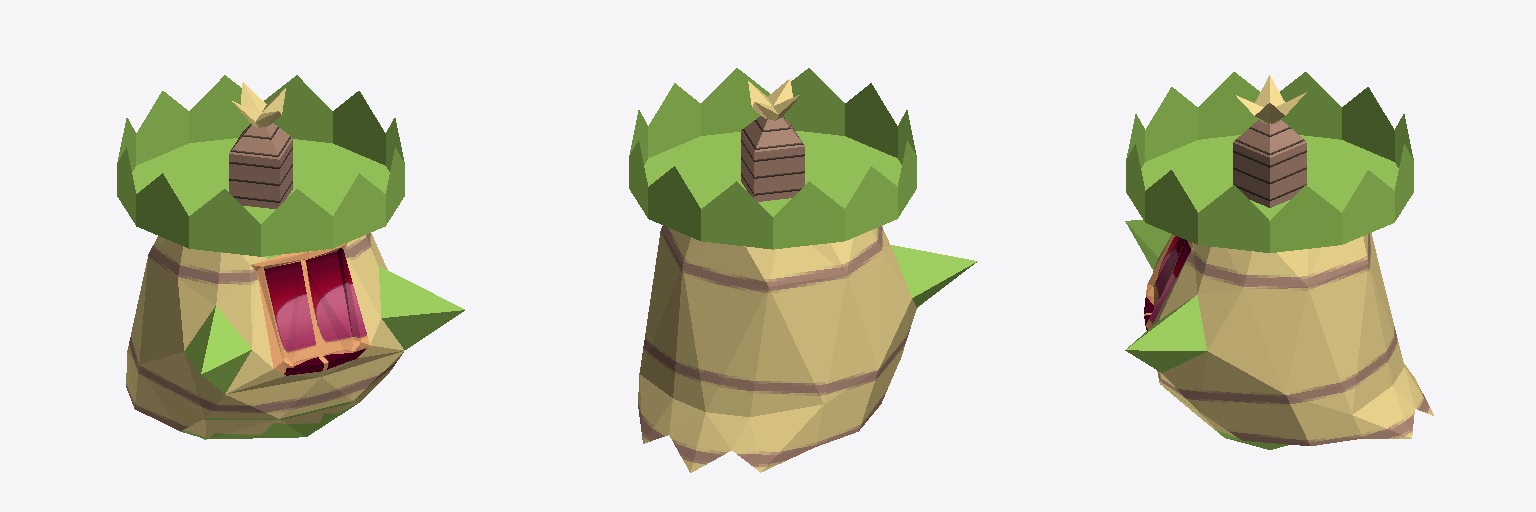
The picture shows the model from 3 angles: view 1: azimuth 30°, elevation 25°; view 2: azimuth 150°, elevation 25°; view 3: azimuth 270°, elevation 25°; orthographic projection.
Visible parts, largest first — view 1: merged_0_0_node, merged_1_0_node, merged_2_0_node, merged_3_0_node; view 2: merged_1_0_node, merged_0_0_node, merged_3_0_node; view 3: merged_1_0_node, merged_0_0_node, merged_3_0_node, merged_2_0_node.
Boxes of the visible parts, x1=… form: merged_0_0_node: x1=117, y1=75, x2=464, y2=439; merged_1_0_node: x1=126, y1=233, x2=404, y2=430; merged_2_0_node: x1=251, y1=243, x2=369, y2=375; merged_3_0_node: x1=229, y1=123, x2=292, y2=208; merged_1_0_node: x1=638, y1=226, x2=916, y2=472; merged_0_0_node: x1=629, y1=68, x2=977, y2=307; merged_3_0_node: x1=741, y1=116, x2=804, y2=201; merged_1_0_node: x1=1151, y1=233, x2=1433, y2=445; merged_0_0_node: x1=1125, y1=72, x2=1413, y2=449; merged_3_0_node: x1=1233, y1=120, x2=1306, y2=207; merged_2_0_node: x1=1144, y1=235, x2=1192, y2=330.
Bounding box in the file's own units: 0.8207 × 0.986 × 0.8311.
5 materials, 5 textured.